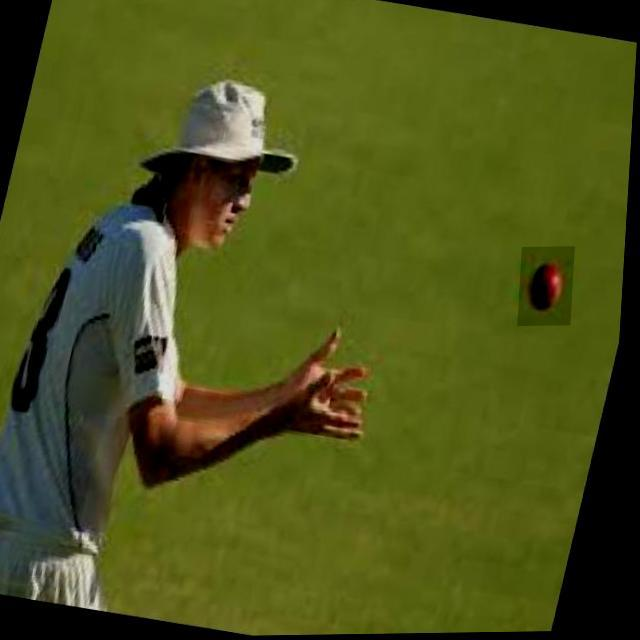Red_Ball: (522, 250, 570, 320)
